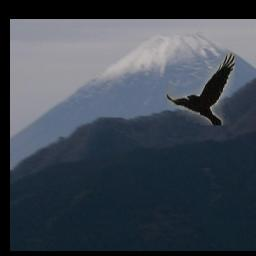Crow: (167, 53, 235, 125)
